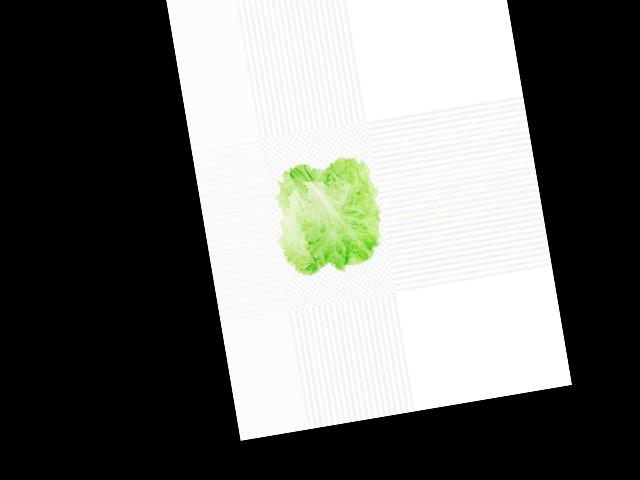lettuce: (280, 157, 385, 280)
